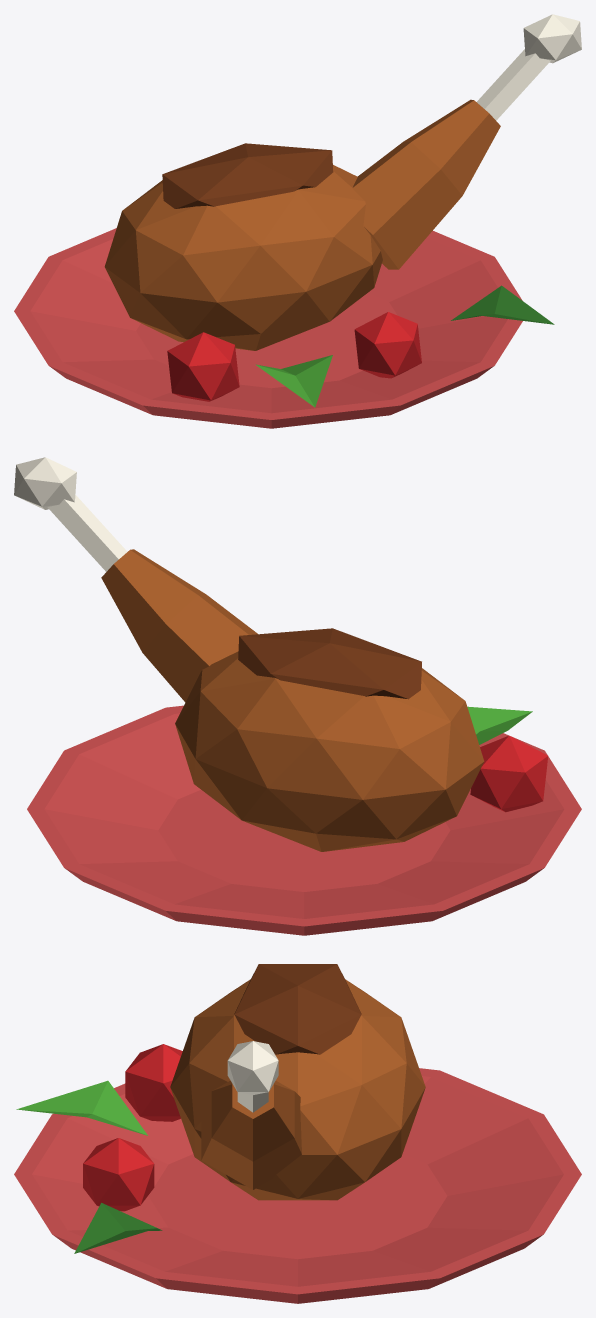
File: feast.glb
The picture shows the model from 3 angles, top to bottom: view 1: azimuth 30°, elevation 25°; view 2: azimuth 150°, elevation 25°; view 3: azimuth 270°, elevation 25°; orthographic projection. The views are drawn at different scales.
Parts seen in each view (by area): view 1: feast; view 2: feast; view 3: feast.
Part boxes in pixels (x1=…): feast: x1=14, y1=14, x2=581, y2=428; feast: x1=14, y1=457, x2=581, y2=935; feast: x1=14, y1=964, x2=581, y2=1303.
Size of the model in its own units: 0.4353 by 0.232 by 0.38.
